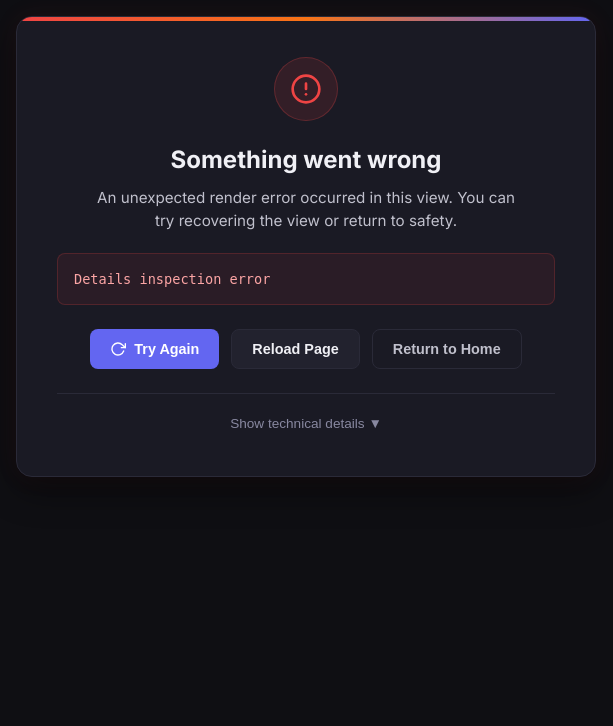
Test case: ErrorBoundary Component › toggles technical details and stack trace visibility
expect the text "Stack Trace:" is not shown: met
Note: Open details
Click the button "Show technical details ▼" at (306, 424), box [222,412,390,435]
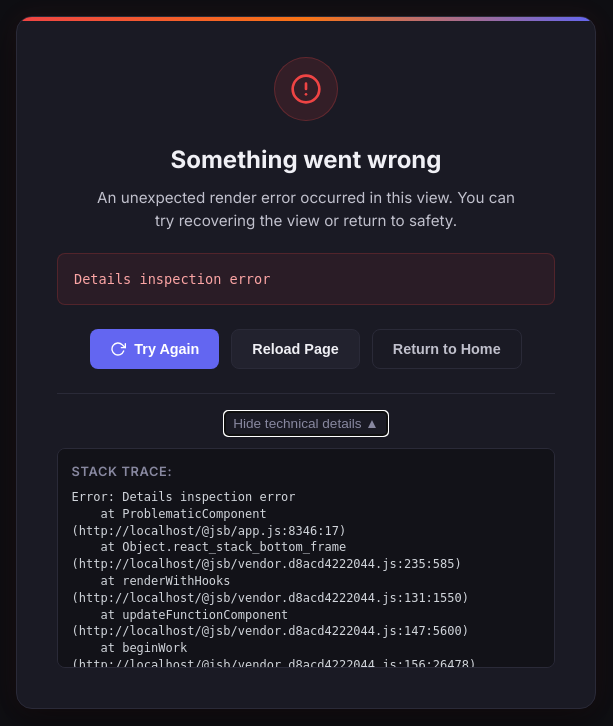
expect the text "Stack Trace:" is shown: met, box [72,464,172,479]
expect the button "Hide technical details ▲" is shown: met
Note: Close details
Click the button "Hide technical details ▲" at (306, 424), box [225,412,387,435]
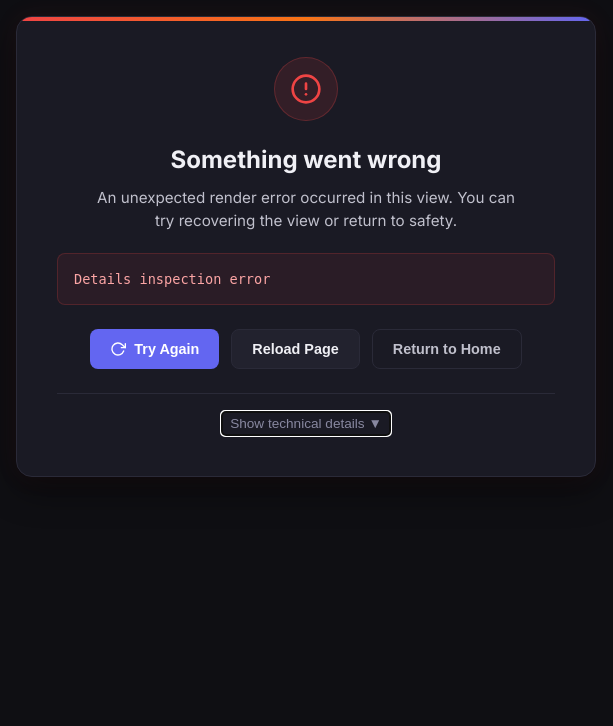
expect the text "Stack Trace:" is gone: met
